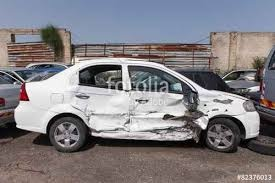Smashed: (72, 91, 218, 141)
